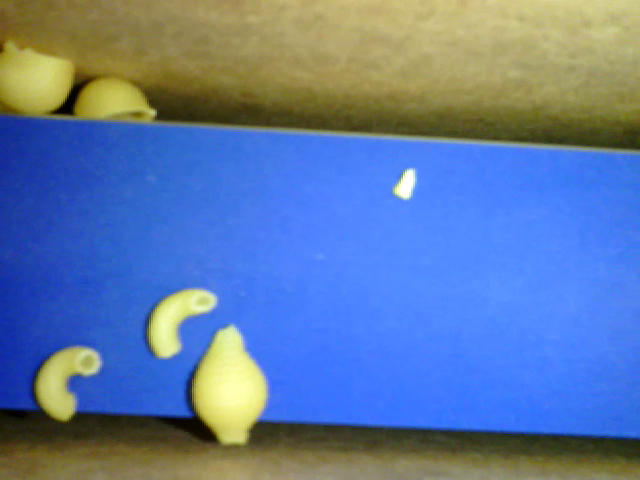elbow: (144, 287, 220, 361), (33, 345, 104, 420)
shell: (188, 319, 269, 448), (1, 38, 76, 121), (73, 76, 159, 123)
